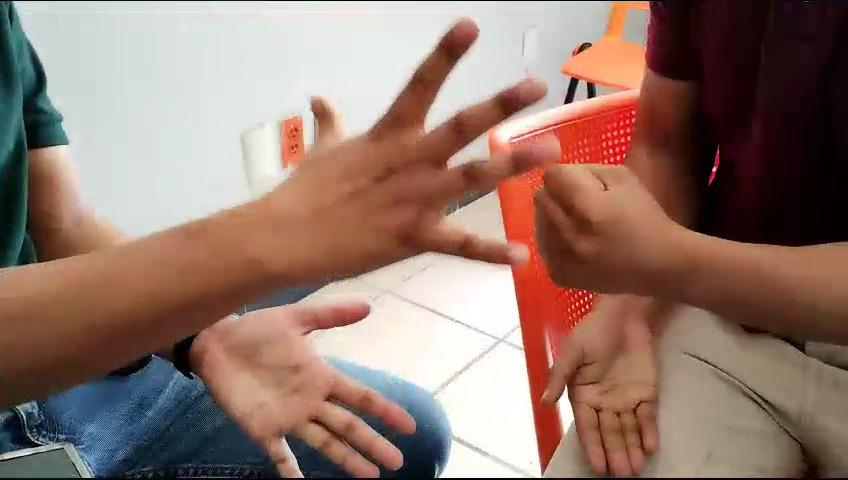Paper: (265, 12, 562, 287), (195, 291, 429, 476), (537, 302, 682, 477)
Stone: (522, 151, 690, 309)
